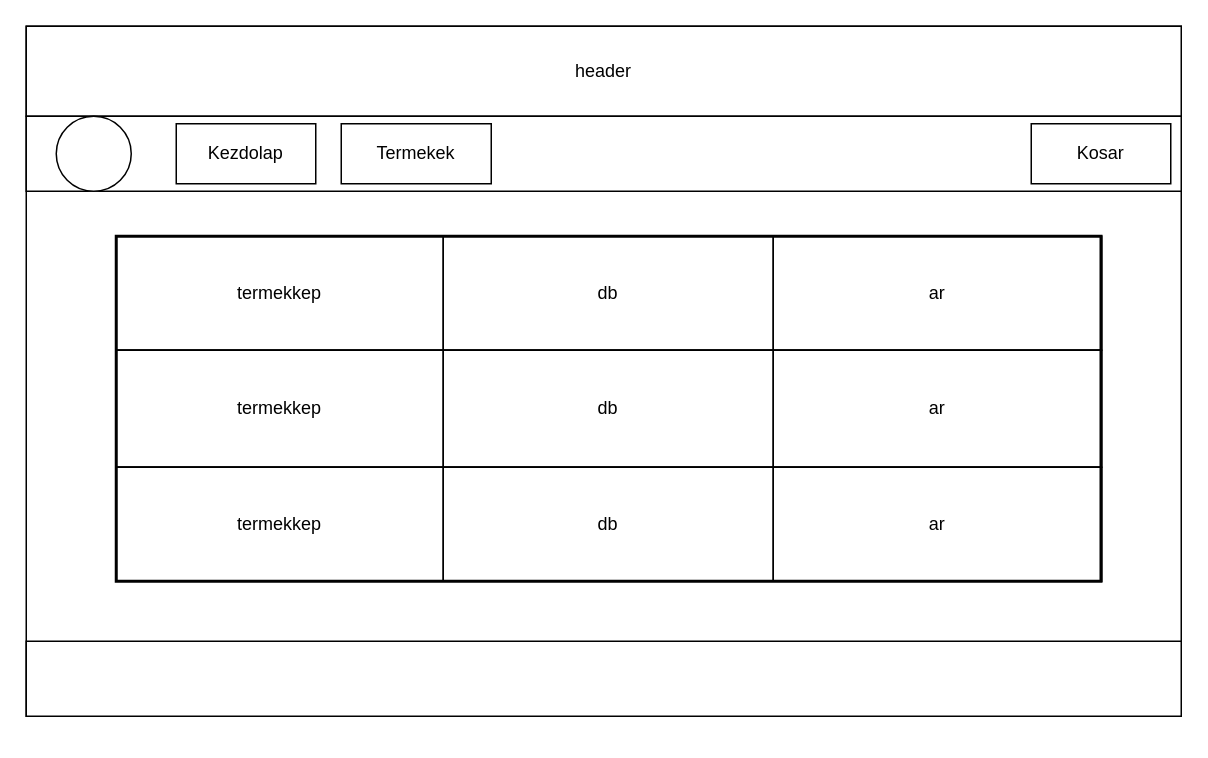
Some shapes in this 1208 by 758 pixel diagram are drawn without their labels. Each missing label, with the centre of its shape:
"footer" belongs at point (603, 678).
"logo" belongs at point (93, 153).
